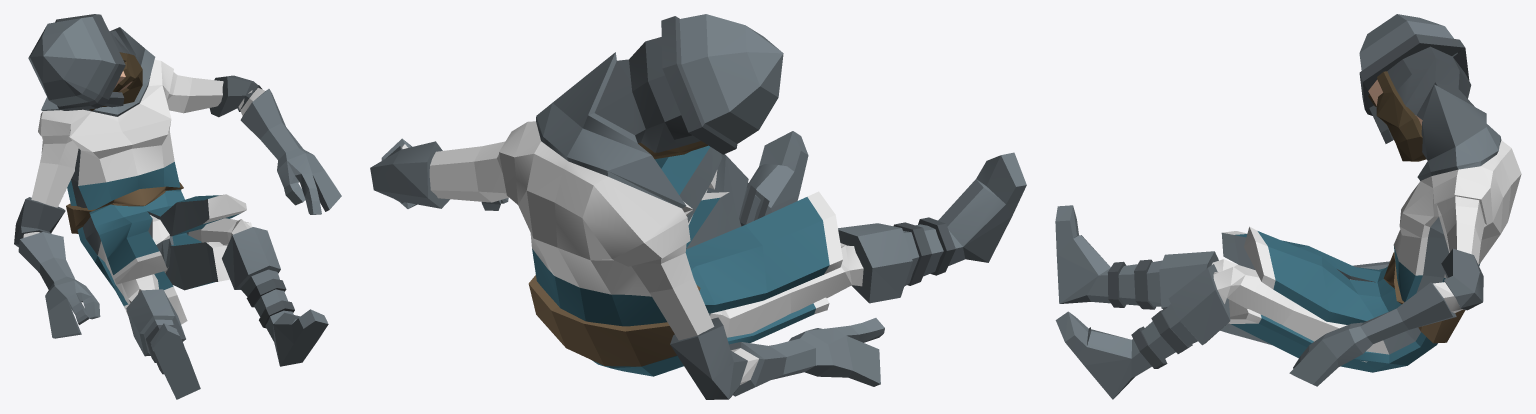
File: SM_Dead_Soldier_05.fbx
3 renders of one model, left to right at view 1: azimuth 30°, elevation 25°; view 2: azimuth 150°, elevation 25°; view 3: azimuth 270°, elevation 25°, orthographic. The views are drawn at different scales.
Visible parts, largest first — view 1: SM_Dead_Soldier_05; view 2: SM_Dead_Soldier_05; view 3: SM_Dead_Soldier_05.
Part boxes in pixels (bbox=[...]): SM_Dead_Soldier_05: bbox=[14, 14, 341, 399]; SM_Dead_Soldier_05: bbox=[370, 14, 1026, 399]; SM_Dead_Soldier_05: bbox=[1055, 14, 1521, 399].
Bounding box in the file's own units: 104 × 93.06 × 121.
